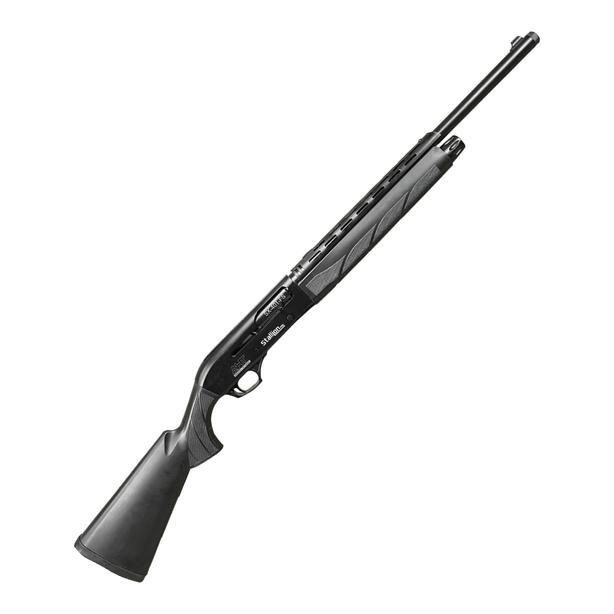Firearm: (73, 22, 581, 592)
